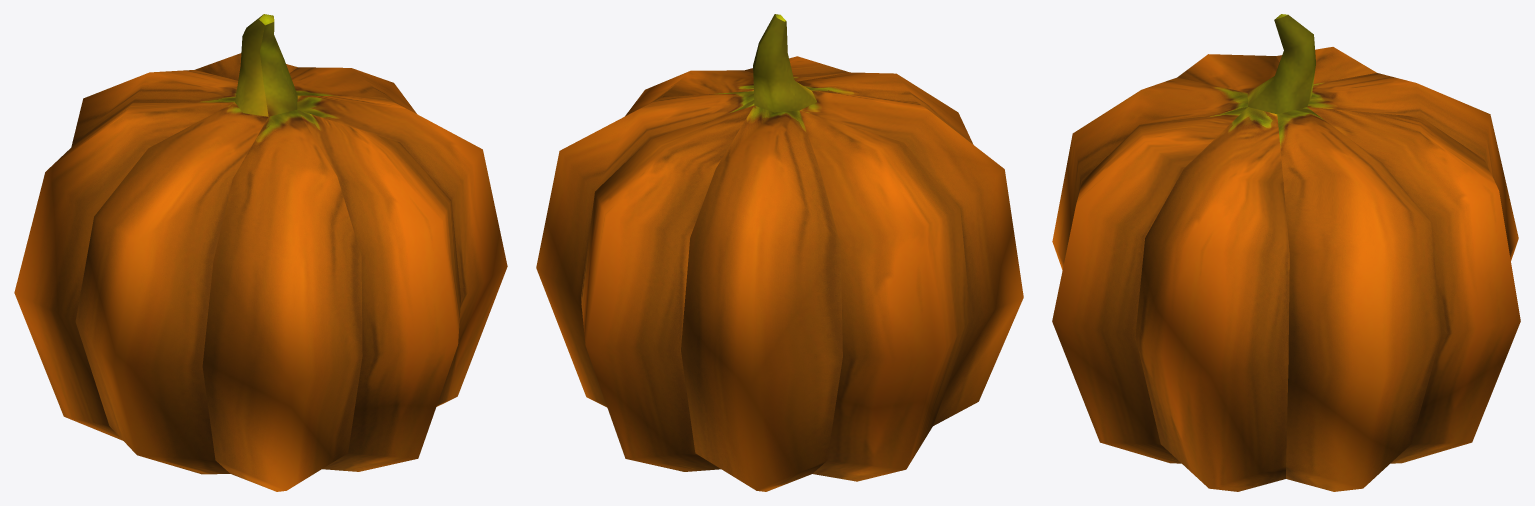
File: ruraltown_pumpking_big_00.fbx
3 renders of one model, left to right at view 1: azimuth 30°, elevation 25°; view 2: azimuth 150°, elevation 25°; view 3: azimuth 270°, elevation 25°, orthographic.
Visible parts, largest first — view 1: ruraltown_pumpking_big_00; view 2: ruraltown_pumpking_big_00; view 3: ruraltown_pumpking_big_00.
Part boxes in pixels (<box>): ruraltown_pumpking_big_00: <box>14,14,507,491</box>; ruraltown_pumpking_big_00: <box>536,14,1023,491</box>; ruraltown_pumpking_big_00: <box>1052,14,1520,491</box>.
Bounding box in the file's own units: 1 × 1.02 × 1.
